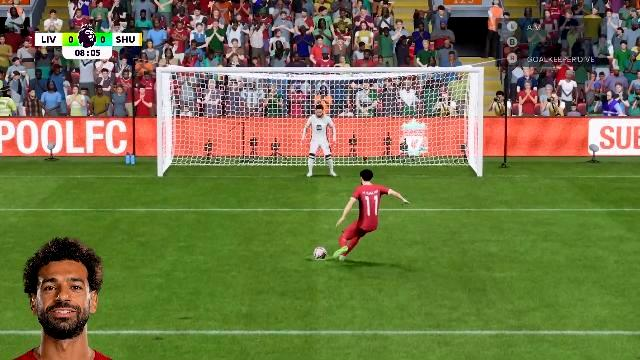bottom-left: (165, 130, 273, 178)
bottom-right: (369, 130, 476, 178)
center-down: (273, 130, 369, 178)
center-up: (274, 74, 368, 128)
circle: (309, 252, 331, 256)
football: (314, 244, 326, 254)
goalkeeper: (300, 102, 336, 182)
player: (334, 165, 410, 263)
top-left: (164, 74, 272, 128)
top-right: (372, 73, 478, 127)
